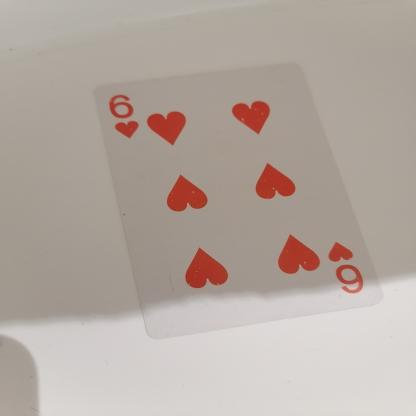6H: (324, 232, 377, 300), (103, 89, 146, 152)
